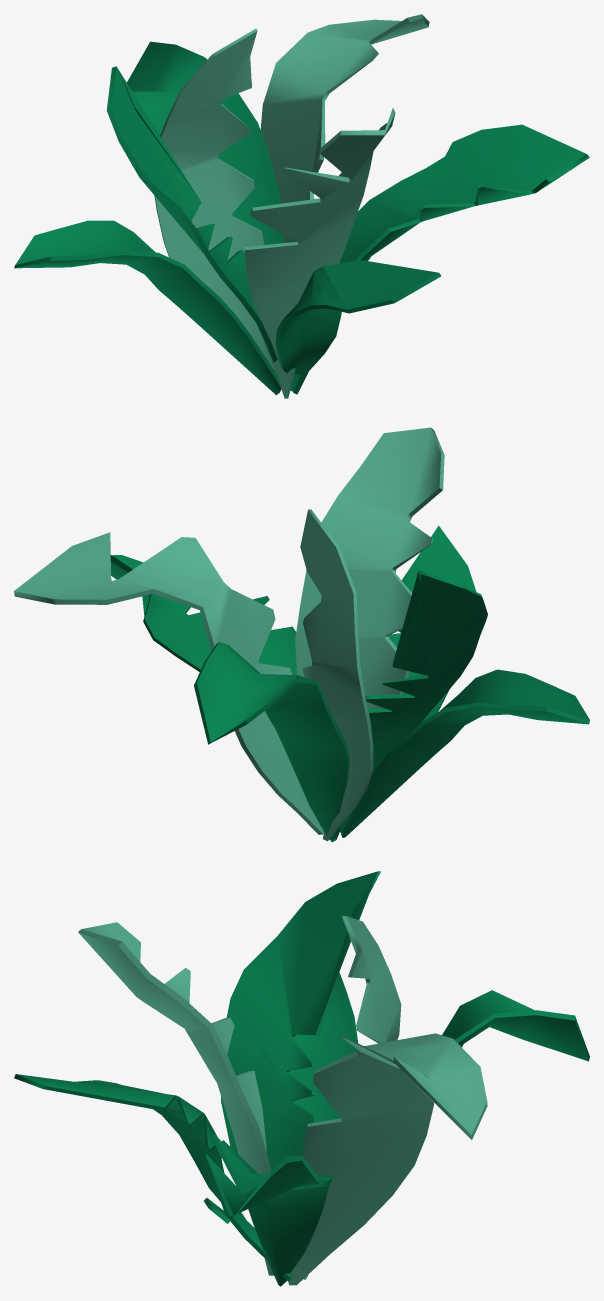
Rendered from gras3.fbx.
The picture shows the model from 3 angles, top to bottom: view 1: azimuth 30°, elevation 25°; view 2: azimuth 150°, elevation 25°; view 3: azimuth 270°, elevation 25°; orthographic projection. The views are drawn at different scales.
Parts seen in each view (by area): view 1: _1_strangebush:pCube15; view 2: _1_strangebush:pCube15; view 3: _1_strangebush:pCube15.
Boxes of the visible parts, left/top/right/bottom form: _1_strangebush:pCube15: left=14, top=14, right=589, bottom=398; _1_strangebush:pCube15: left=14, top=427, right=589, bottom=842; _1_strangebush:pCube15: left=14, top=871, right=589, bottom=1286.
Size of the model in its own units: 153 by 93.64 by 134.
